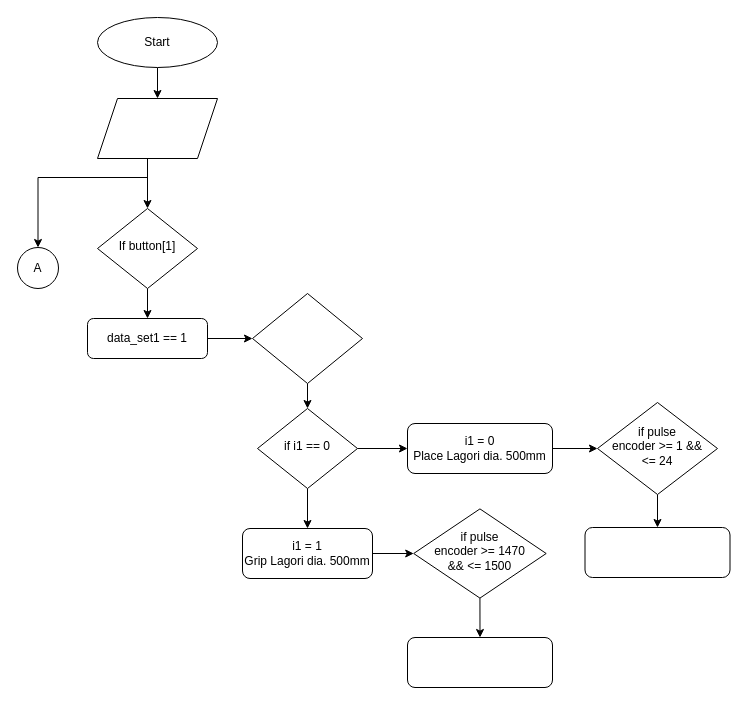
Image size: 748x705. Some labels were removed from this diagram. Each missing label, with the centre of its shape:
"if data_set1 == 1" goes at point 307,338.
"Input Joystick" goes at point 157,128.
"set Posisi lifter = 325mm" goes at point 479,662.
"set Zero position" goes at point 657,552.
